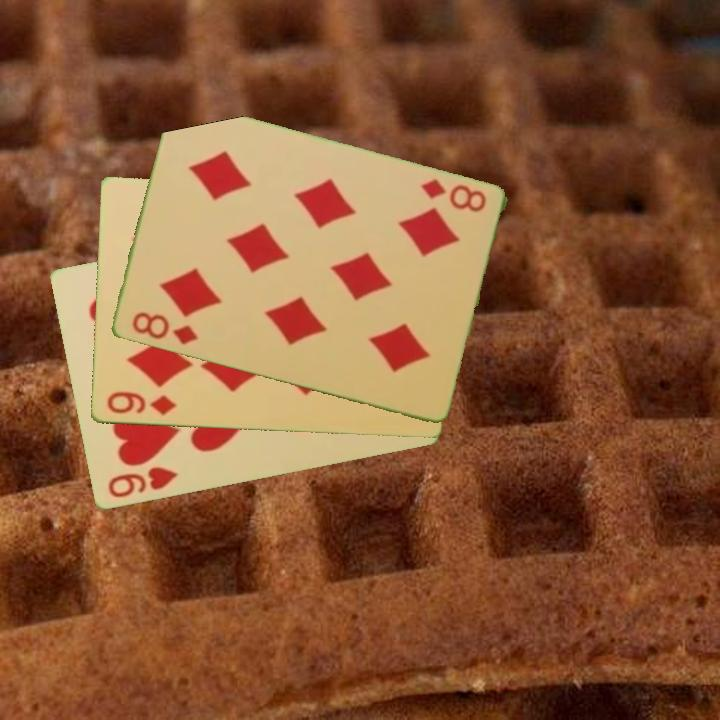8d: (417, 175, 489, 216), (128, 308, 201, 348)
9d: (103, 388, 179, 419)
9h: (104, 464, 180, 501)
